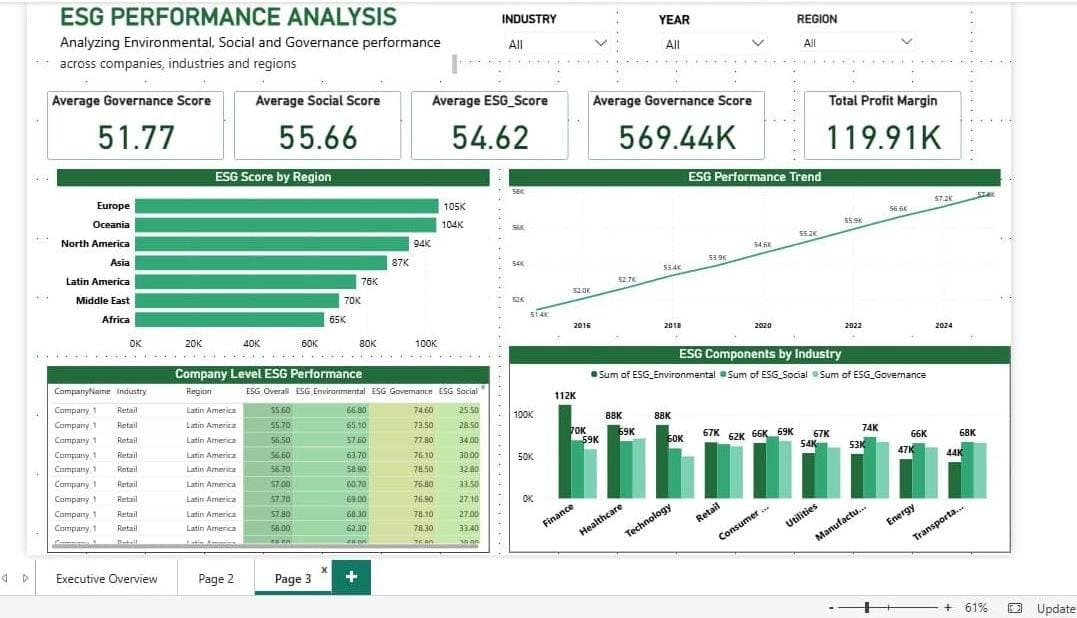

The dashboard page shown, as its layout file describes it:
{"tool":"powerbi","page":{"name":"Page 3","canvas":[1600,900],"ordinal":2},"visuals":[{"type":"card","title":"Average Governance Score","fields":{"Values":["Avg(Sheet1.ESG_Governance)"]},"box":[32,144,288,112],"z":0},{"type":"card","title":"Average Social Score","fields":{"Values":["Avg(Sheet1.ESG_Social)"]},"box":[336,144,272,112],"z":1000},{"type":"card","title":"Average ESG_Score","fields":{"Values":["Avg(Sheet1.ESG_Overall)"]},"box":[624,144,256,112],"z":2000},{"type":"card","title":"Average Governance Score","fields":{"Values":["Sum(Sheet1.ESG_Governance)"]},"box":[912,144,288,112],"z":3000},{"type":"clusteredBarChart","title":"ESG Score by Region","fields":{"Y":["Sum(Sheet1.ESG_Overall)"],"Category":["Sheet1.Region"]},"box":[48,272,704,304],"z":4000},{"type":"clusteredColumnChart","title":"ESG Components by Industry","fields":{"Category":["Sheet1.Industry"],"Y":["Sum(Sheet1.ESG_Environmental)","Sum(Sheet1.ESG_Social)","Sum(Sheet1.ESG_Governance)"]},"box":[784,560,816,336],"z":5000},{"type":"tableEx","title":"Company Level ESG Performance","fields":{"Values":["Sheet1.CompanyName","Sheet1.Industry","Sheet1.Region","Sheet1.ESG_Overall","Sheet1.ESG_Environmental","Sheet1.ESG_Governance","Sheet1.ESG_Social"]},"box":[32,592,720,304],"z":6000},{"type":"card","title":"Total Profit Margin","fields":{"Values":["Sum(Sheet1.ProfitMargin)"]},"box":[1264,144,256,112],"z":7000},{"type":"textbox","title":"ESG PERFORMANCE ANALYSIS","box":[48,0,656,128],"z":8000},{"type":"lineChart","title":"ESG Performance Trend","fields":{"Y":["Sum(Sheet1.ESG_Overall)"],"Category":["Sheet1.Year"]},"box":[784,272,800,272],"z":9000},{"type":"slicer","title":"INDUSTRY","fields":{"Values":["Sheet1.Industry"]},"box":[768,16,192,80],"z":10000},{"type":"slicer","title":"YEAR","fields":{"Values":["Sheet1.Year"]},"box":[1024,16,192,80],"z":10001},{"type":"slicer","title":"REGION","fields":{"Values":["Sheet1.Region"]},"box":[1248,16,208,80],"z":10002}]}

Visuals, with their boxes on the page's 1600x900 design canvas (x1, y1, x2, y2). These are canvas units, not pixel positions in the 1077x618 screenshot, which may show the page scaled, cropped or inside an application window:
"Average Governance Score" card: bbox=[32, 144, 320, 256]
"Average Social Score" card: bbox=[336, 144, 608, 256]
"Average ESG_Score" card: bbox=[624, 144, 880, 256]
"Average Governance Score" card: bbox=[912, 144, 1200, 256]
"ESG Score by Region" clusteredBarChart: bbox=[48, 272, 752, 576]
"ESG Components by Industry" clusteredColumnChart: bbox=[784, 560, 1600, 896]
"Company Level ESG Performance" tableEx: bbox=[32, 592, 752, 896]
"Total Profit Margin" card: bbox=[1264, 144, 1520, 256]
"ESG PERFORMANCE ANALYSIS" textbox: bbox=[48, 0, 704, 128]
"ESG Performance Trend" lineChart: bbox=[784, 272, 1584, 544]
"INDUSTRY" slicer: bbox=[768, 16, 960, 96]
"YEAR" slicer: bbox=[1024, 16, 1216, 96]
"REGION" slicer: bbox=[1248, 16, 1456, 96]
